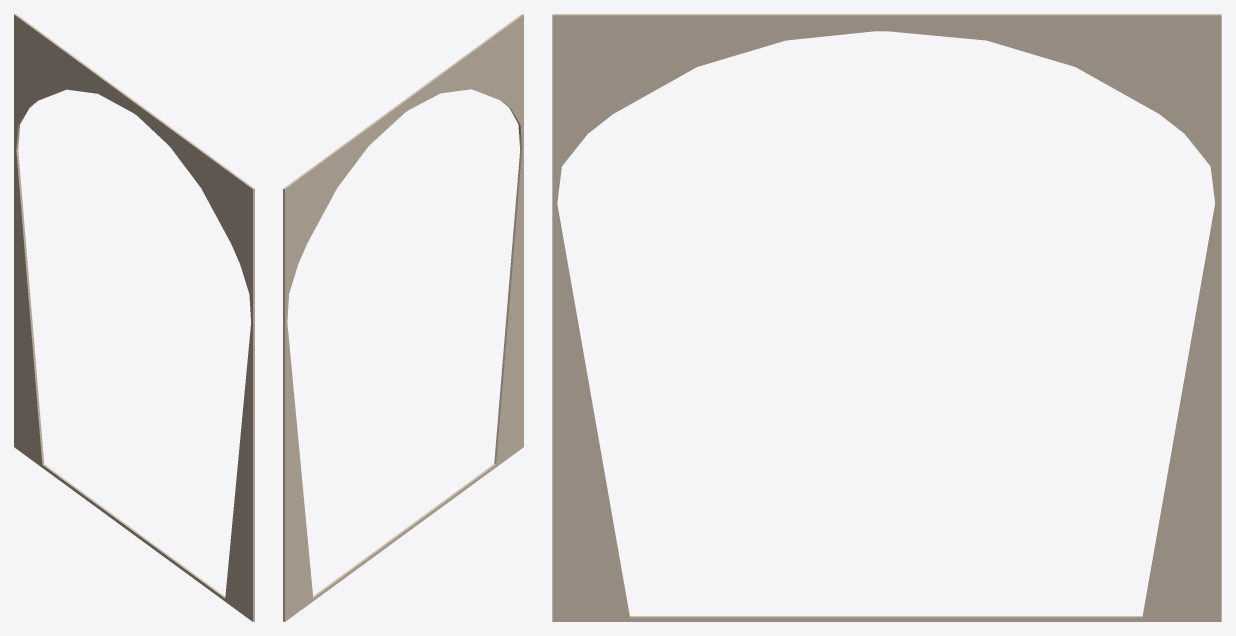
The model's file is Walter(Pronouced Walldoor).fbx.
3 renders of one model, left to right at view 1: azimuth 30°, elevation 25°; view 2: azimuth 150°, elevation 25°; view 3: azimuth 270°, elevation 25°, orthographic. The views are drawn at different scales.
Parts seen in each view (by area): view 1: polySurface1; view 2: polySurface1; view 3: polySurface1.
Part boxes in pixels (x1,y1,x2,y2): polySurface1: [14, 14, 254, 621]; polySurface1: [283, 14, 523, 621]; polySurface1: [552, 14, 1221, 621].
Size of the model in its own units: 3.8 by 800 by 800.
